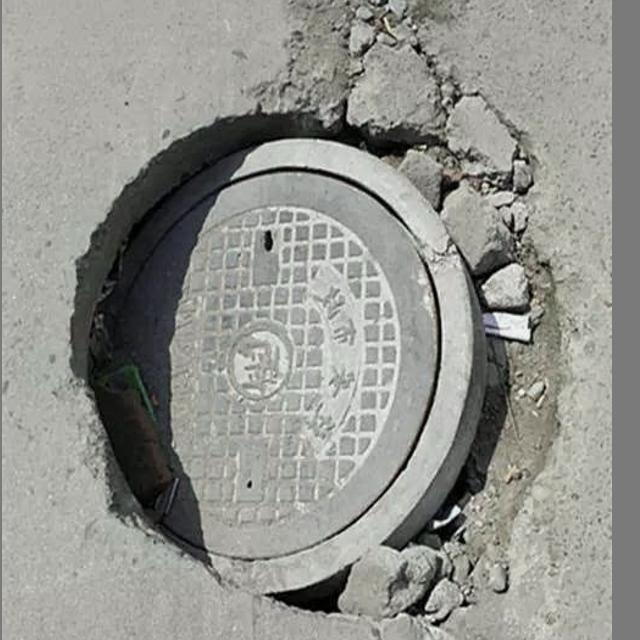circle: (72, 0, 553, 608)
